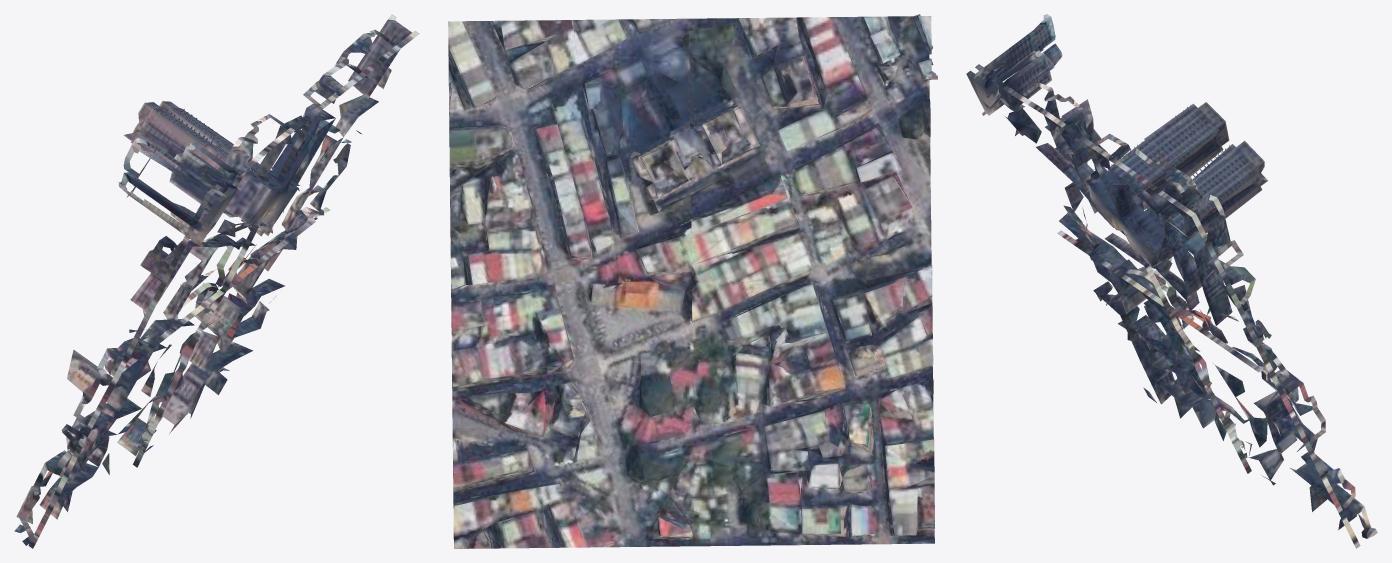
3 renders of one model, left to right at view 1: azimuth 30°, elevation 25°; view 2: azimuth 150°, elevation 25°; view 3: azimuth 270°, elevation 25°, orthographic. The views are drawn at different scales.
Size of the model in its own units: 309 by 303 by 275.
1 material, 1 textured.
